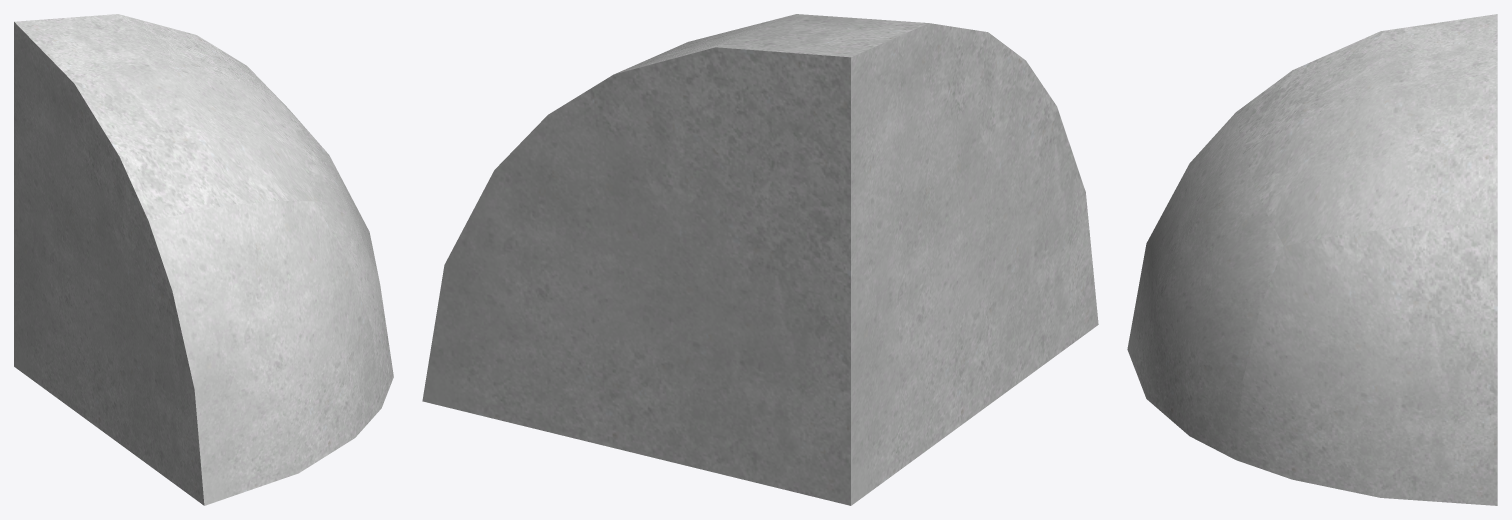
File: cornerroundwedge.obj
The picture shows the model from 3 angles, left to right: view 1: azimuth 30°, elevation 25°; view 2: azimuth 150°, elevation 25°; view 3: azimuth 270°, elevation 25°; orthographic projection. The views are drawn at different scales.
Visible parts, largest first — view 1: Cornerroundwedge1; view 2: Cornerroundwedge1; view 3: Cornerroundwedge1.
Boxes of the visible parts, left/top/right/bottom form: Cornerroundwedge1: left=14, top=14, right=393, bottom=505; Cornerroundwedge1: left=422, top=14, right=1098, bottom=505; Cornerroundwedge1: left=1127, top=14, right=1497, bottom=505.
Bounding box in the file's own units: 2 × 2 × 2.
Materials: 1 (1 with a texture image).
